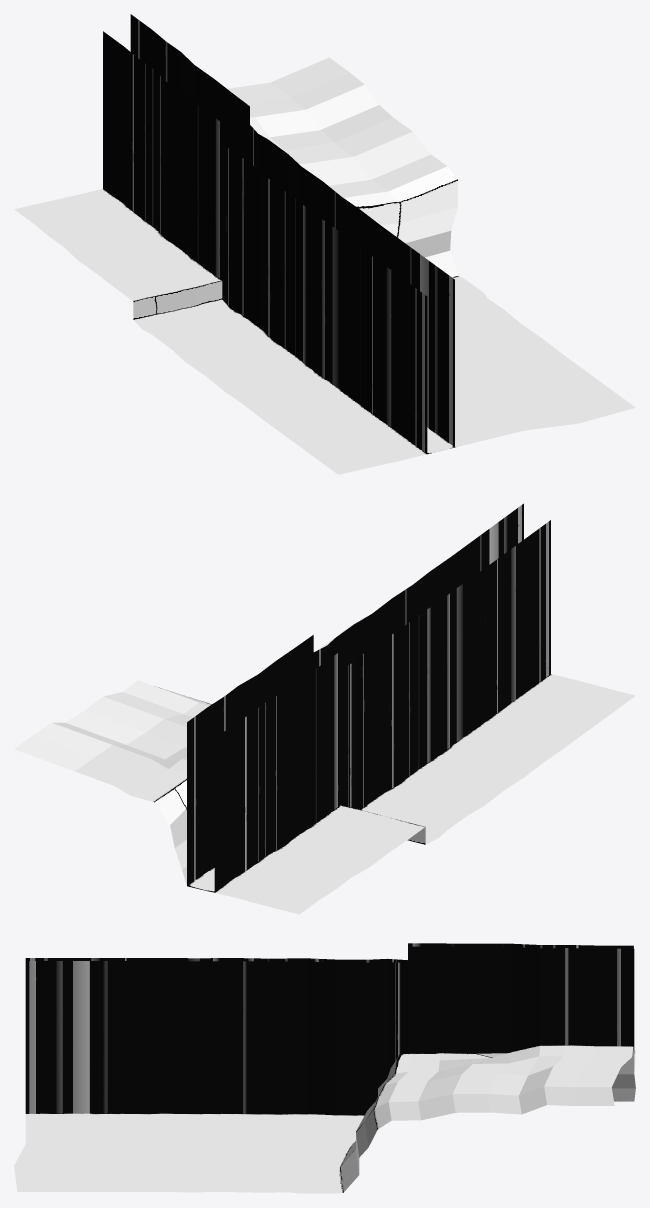
Rendered from Area9Mesh.fbx.
The picture shows the model from 3 angles, top to bottom: view 1: azimuth 30°, elevation 25°; view 2: azimuth 150°, elevation 25°; view 3: azimuth 270°, elevation 25°; orthographic projection. The views are drawn at different scales.
Parts seen in each view (by area): view 1: Terrain, Wall1, Wall2; view 2: Wall1, Terrain, Wall2; view 3: Wall2, Terrain, Wall1.
Part boxes in pixels (bbox=[...]): Terrain: bbox=[14, 57, 635, 474]; Wall1: bbox=[103, 31, 427, 453]; Wall2: bbox=[130, 14, 454, 446]; Wall1: bbox=[214, 520, 550, 892]; Terrain: bbox=[14, 622, 635, 914]; Wall2: bbox=[187, 503, 523, 885]; Wall2: bbox=[25, 946, 634, 1115]; Terrain: bbox=[14, 1045, 635, 1193]; Wall1: bbox=[25, 943, 633, 963].
Size of the model in its own units: 4022 by 2282 by 7595.
Materials: 1 (1 with a texture image).
